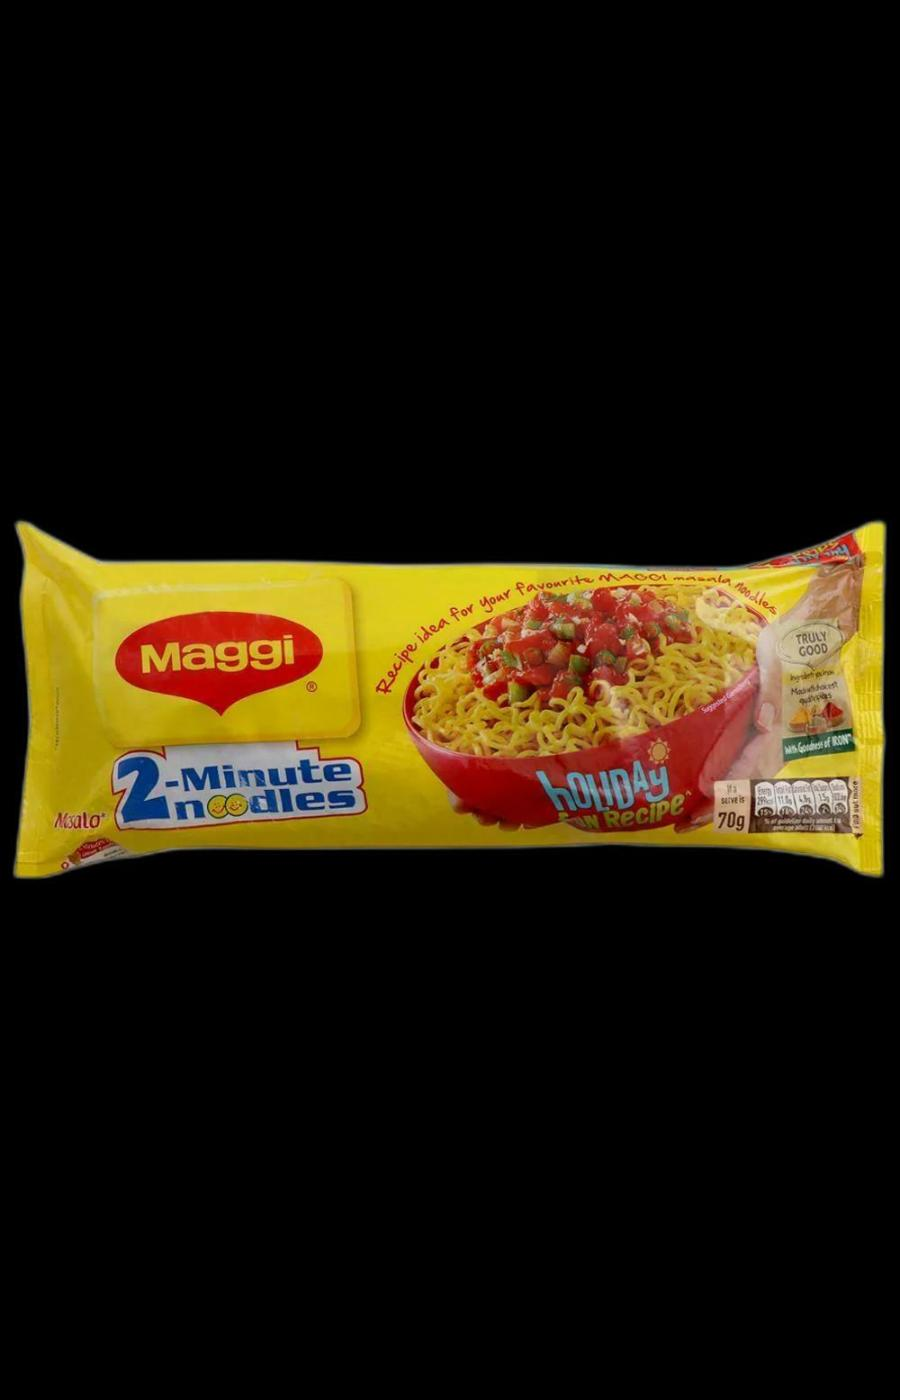Maggi 2-Minute Masala Instant Noodles 420 g: (17, 518, 893, 878)
